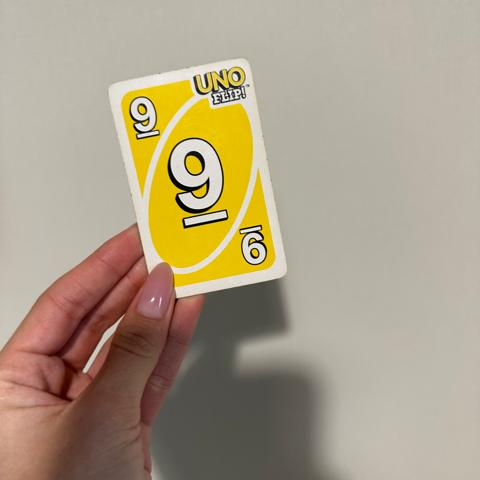3_yellow: (167, 137, 228, 229), (129, 96, 162, 139), (236, 224, 267, 266)
